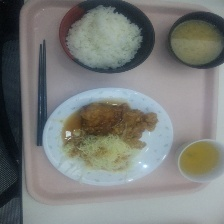dal: (179, 139, 222, 178)
